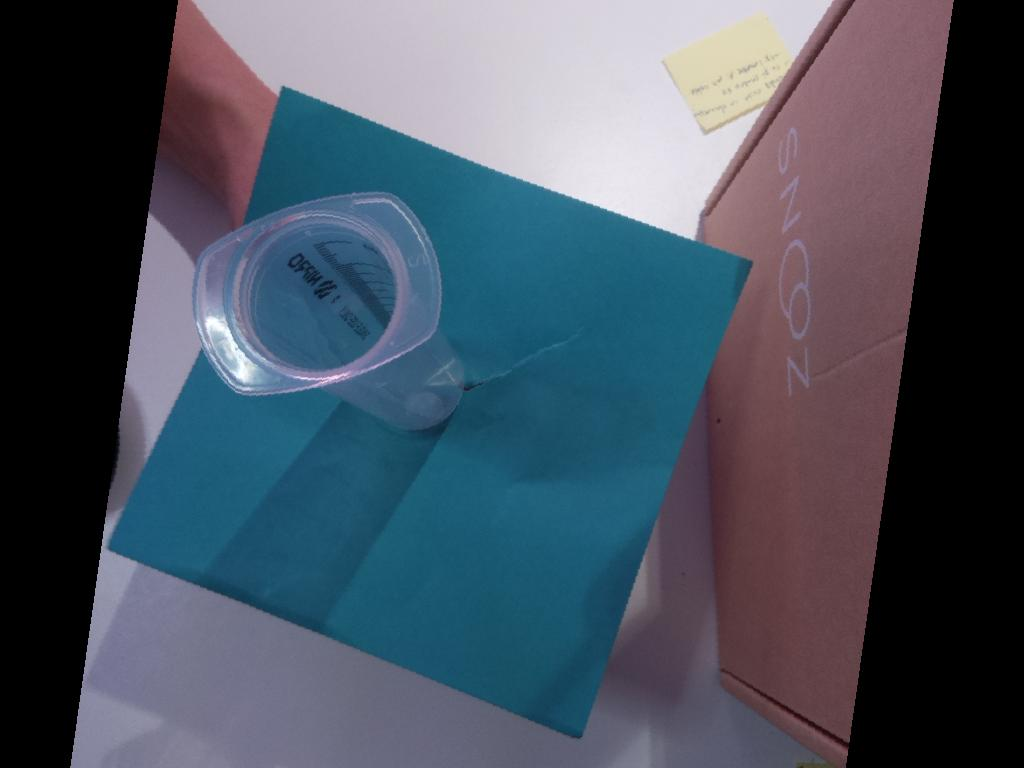clean: (192, 190, 444, 396)
